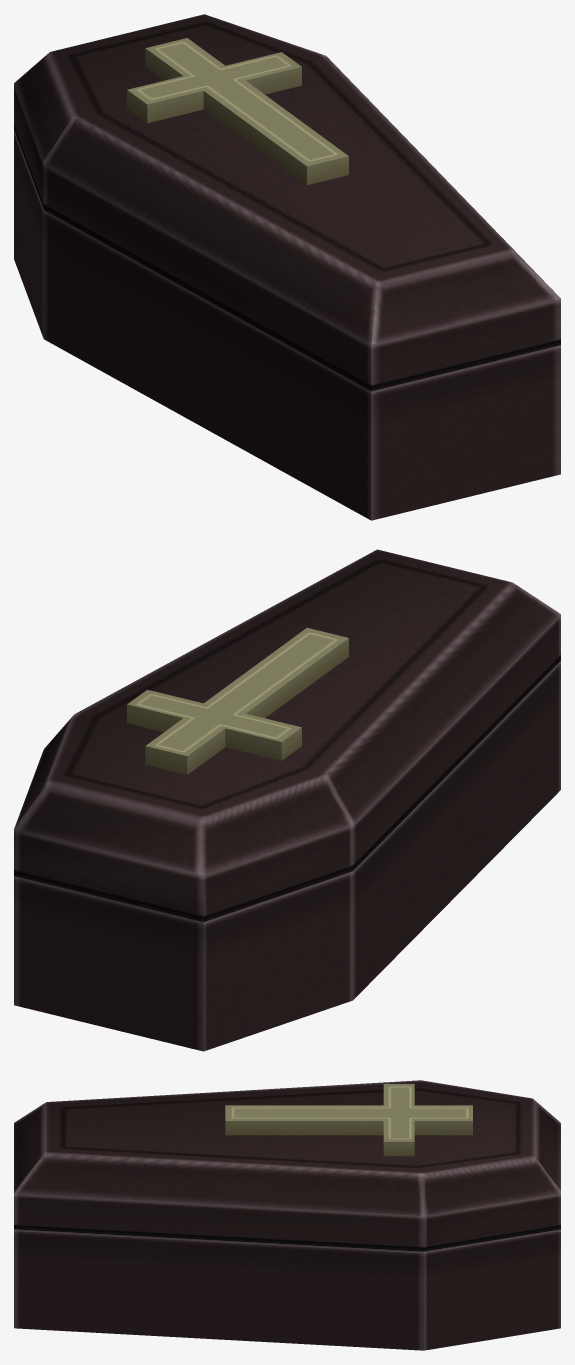
The model's file is coffin.fbx.
3 renders of one model, top to bottom at view 1: azimuth 30°, elevation 25°; view 2: azimuth 150°, elevation 25°; view 3: azimuth 270°, elevation 25°, orthographic. The views are drawn at different scales.
Parts seen in each view (by area): view 1: coffin_lid1, coffin; view 2: coffin_lid1, coffin; view 3: coffin_lid1, coffin.
Part boxes in pixels (<box>): coffin_lid1: <box>14,14,560,385</box>; coffin: <box>14,124,560,520</box>; coffin_lid1: <box>14,549,560,915</box>; coffin: <box>14,655,560,1051</box>; coffin_lid1: <box>14,1080,560,1246</box>; coffin: <box>14,1224,560,1350</box>.
Size of the model in its own units: 60 by 43.6 by 120.
